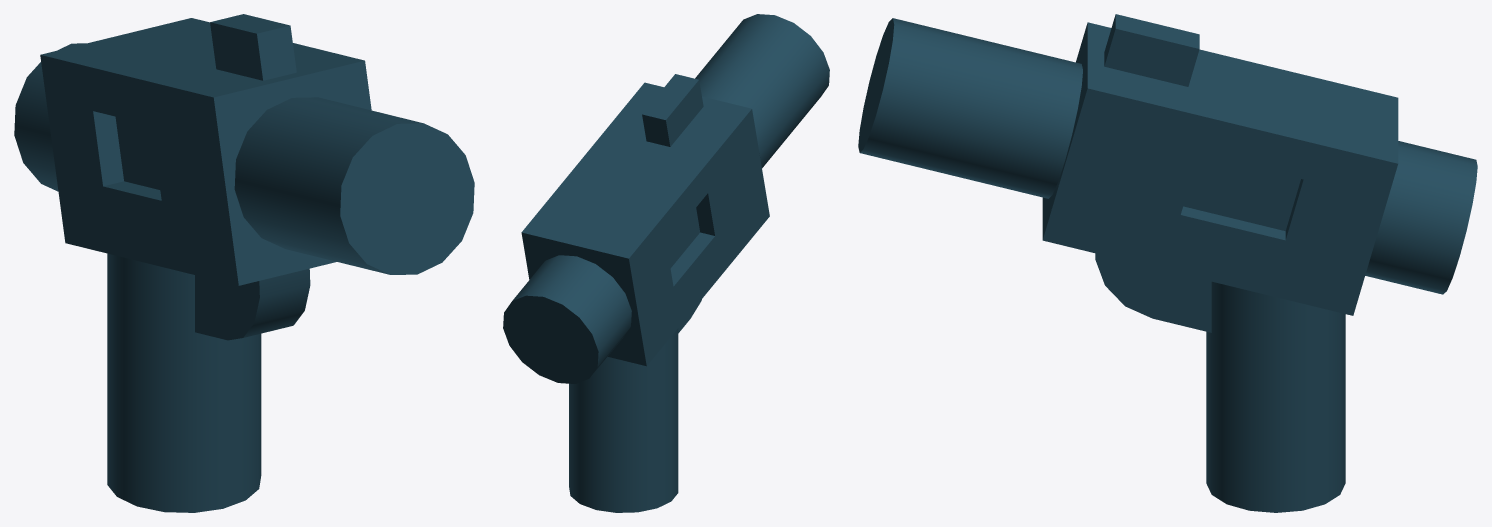
3 renders of one model, left to right at view 1: azimuth 30°, elevation 25°; view 2: azimuth 150°, elevation 25°; view 3: azimuth 270°, elevation 25°, orthographic. The views are drawn at different scales.
Parts seen in each view (by area): view 1: Object; view 2: Object; view 3: Object.
Boxes of the visible parts, x1,y1,x2,y2 form: Object: (14,14,474,512); Object: (503,14,829,512); Object: (858,14,1477,512).
Size of the model in its own units: 3.6 by 14.25 by 11.74.
